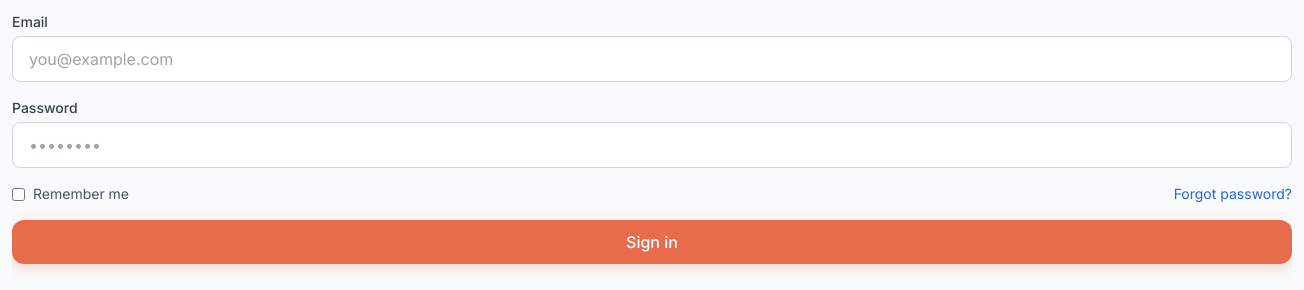
Test: LoginForm › shows "Signing in..." during submission
In the field with placeholder "you@example.com": (652, 59) [12, 36, 1292, 82], type "test@example.com"
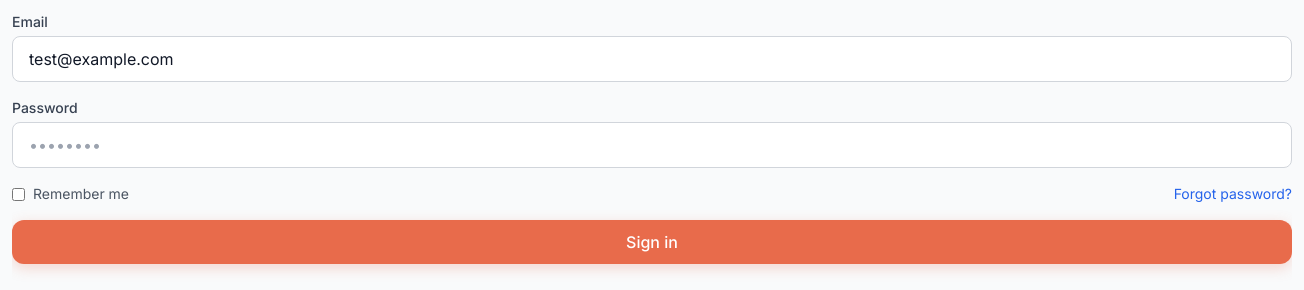
In the password field with placeholder "••••••••": (652, 145) [12, 122, 1292, 168], type "password123"
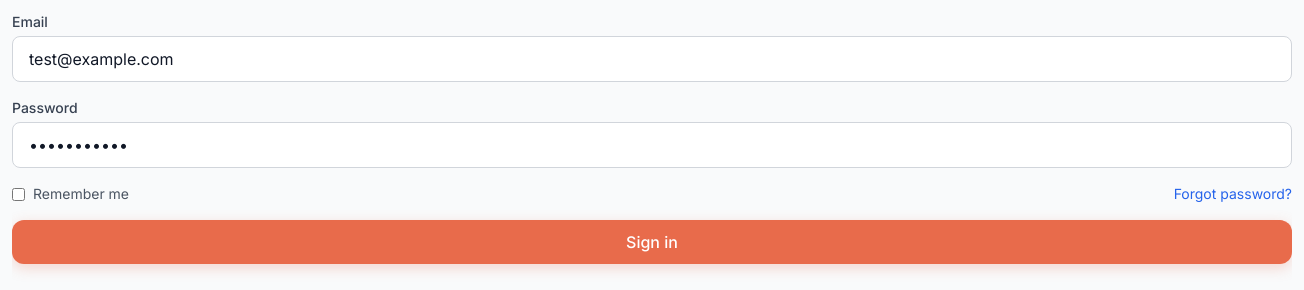
Submit the form from the button "Sign in", box [12, 220, 1292, 264]
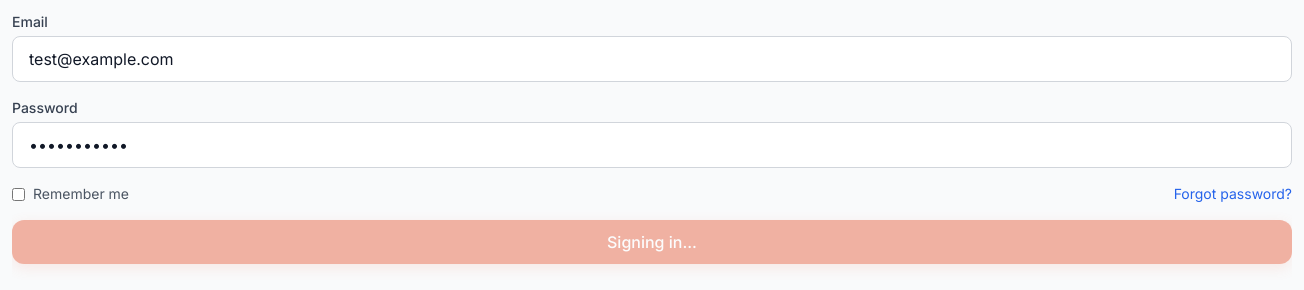
Expected: the button "Signing in..." is shown, [12, 220, 1292, 264]
